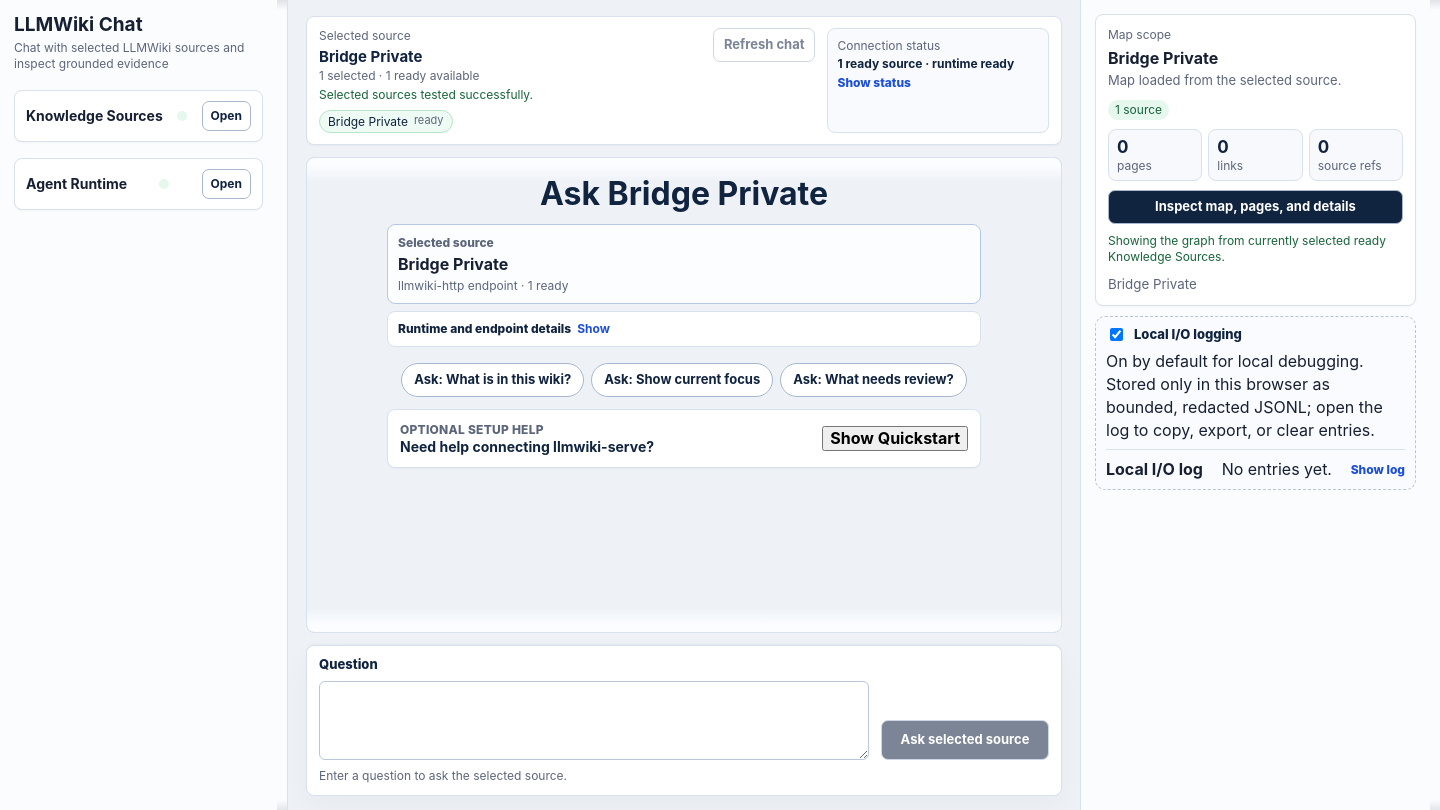
Scenario: LLMWiki Chat › routes bridge-managed page previews through bridge llmwiki_read without fetching the private source
The image size is (1440, 810).
Type "Show bridge page details" into the text box labelled "Question".
click(594, 720); type("Show bridge page details")  # box [319, 681, 869, 760]
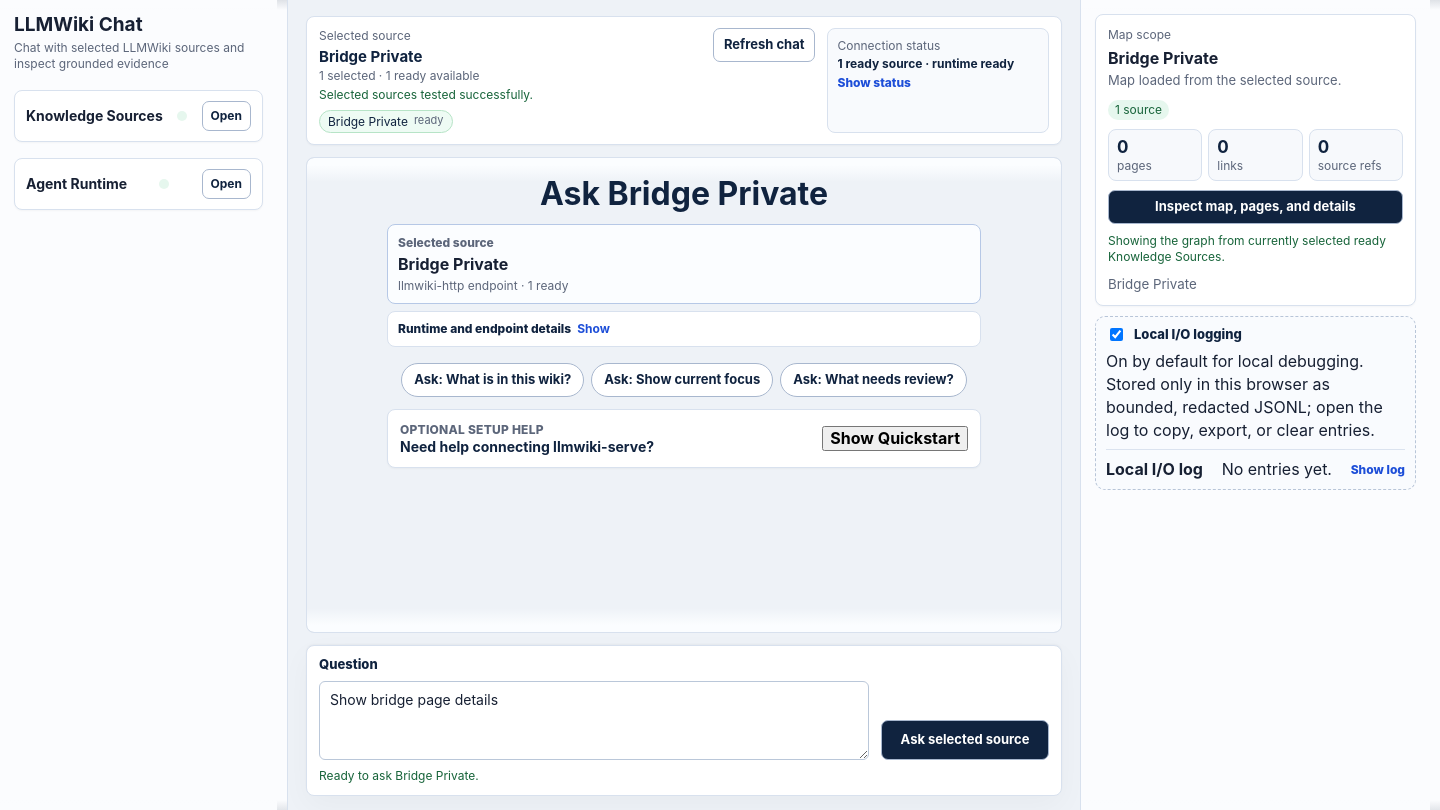
expect the button "Ask selected source" is enabled: met
Click the button "Ask selected source".
click(965, 740)  # box [881, 720, 1049, 760]
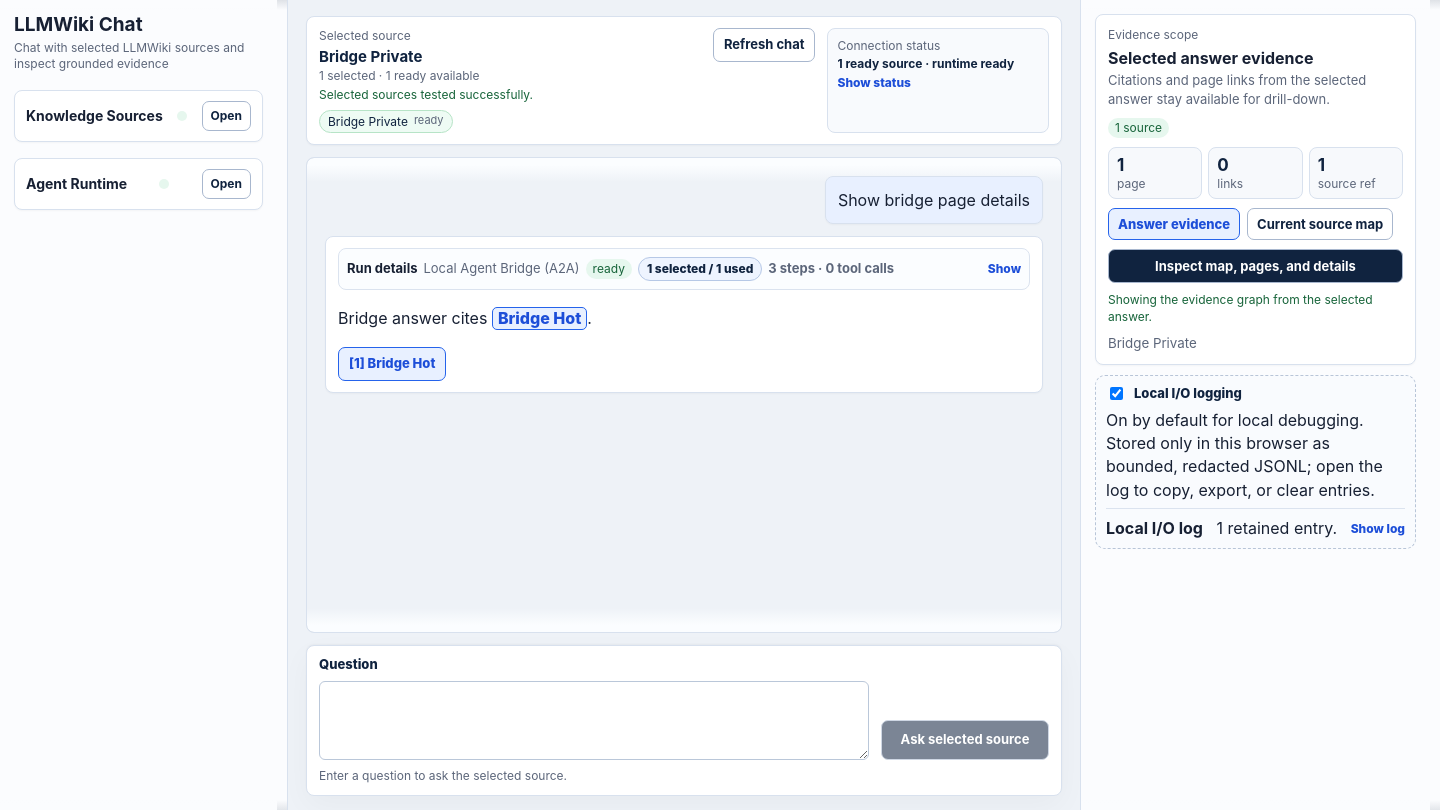
expect the text "Bridge answer cites Bridge Hot ." is shown: met, box [338, 307, 592, 330]
Click the button "Inspect map, pages, and details".
click(1256, 266)  # box [1108, 249, 1403, 283]
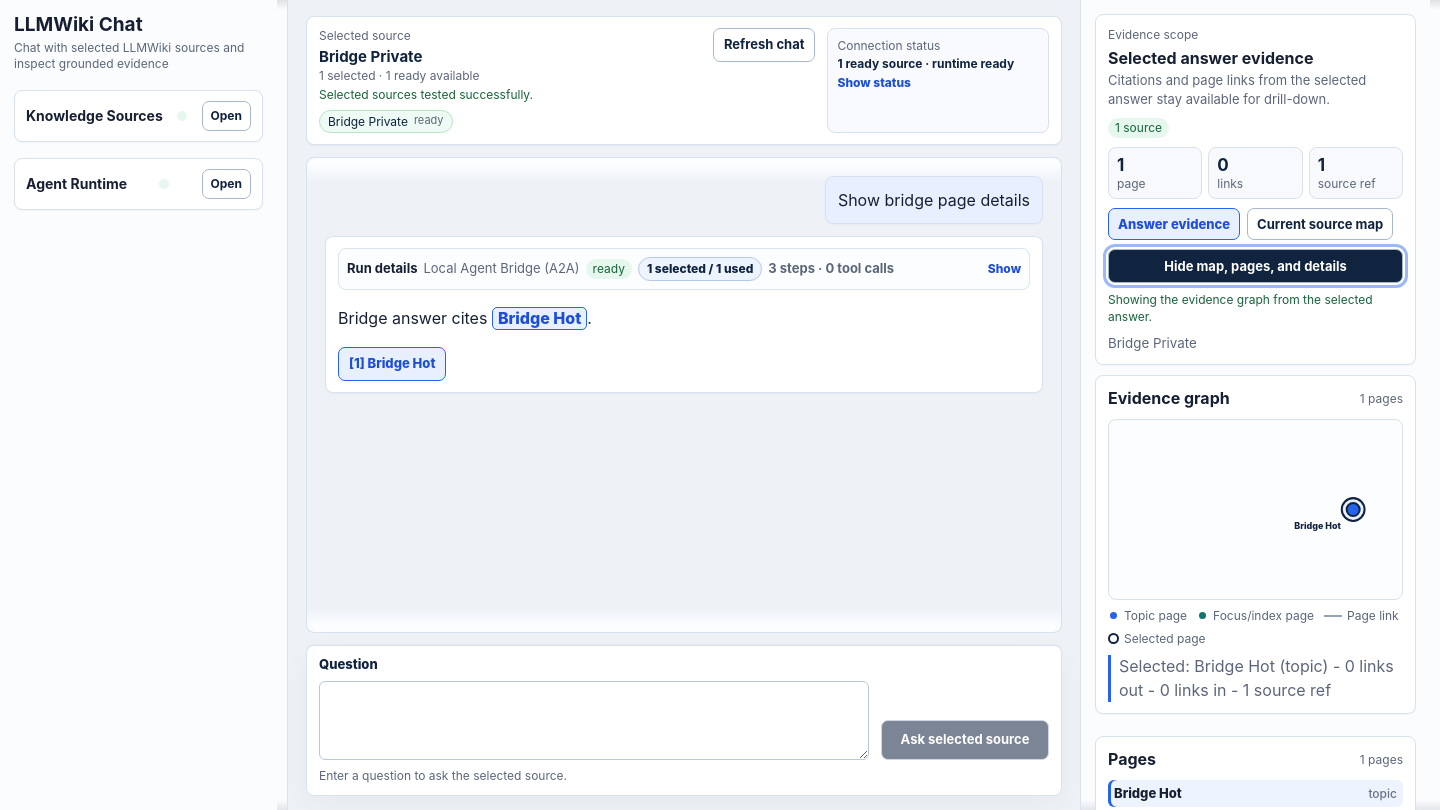
expect the element "graph" is shown: met, box [1095, 375, 1416, 714]
expect the element "Pages" is shown: met, box [1095, 736, 1416, 809]
Click the button "Bridge Hot topic".
click(1148, 793)  # box [1108, 780, 1403, 808]
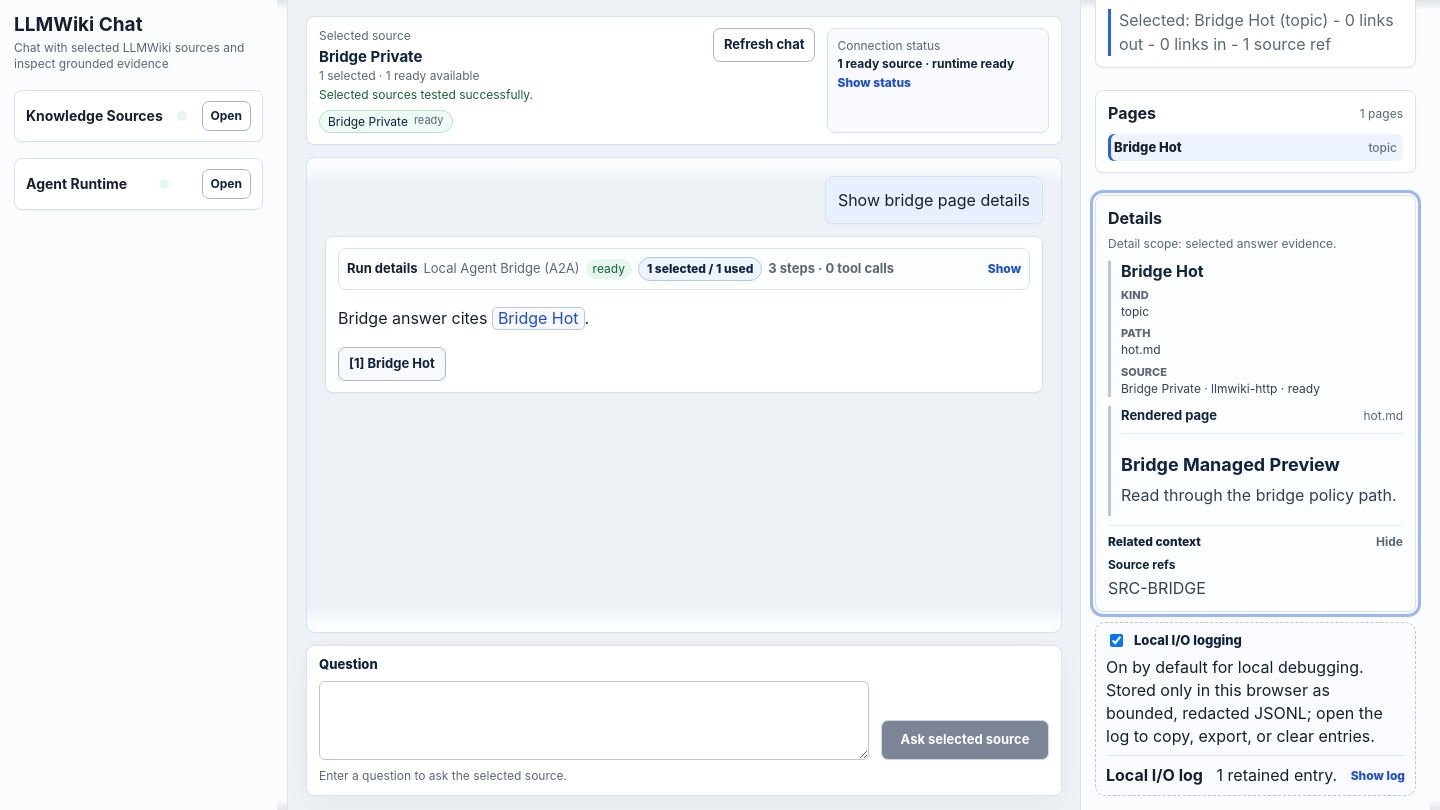
expect the heading "Bridge Managed Preview" is shown: met, box [1121, 454, 1340, 475]
expect the element named "Selected page markdown" shows "Read through the bridge policy path.": met, box [1121, 485, 1397, 505]
